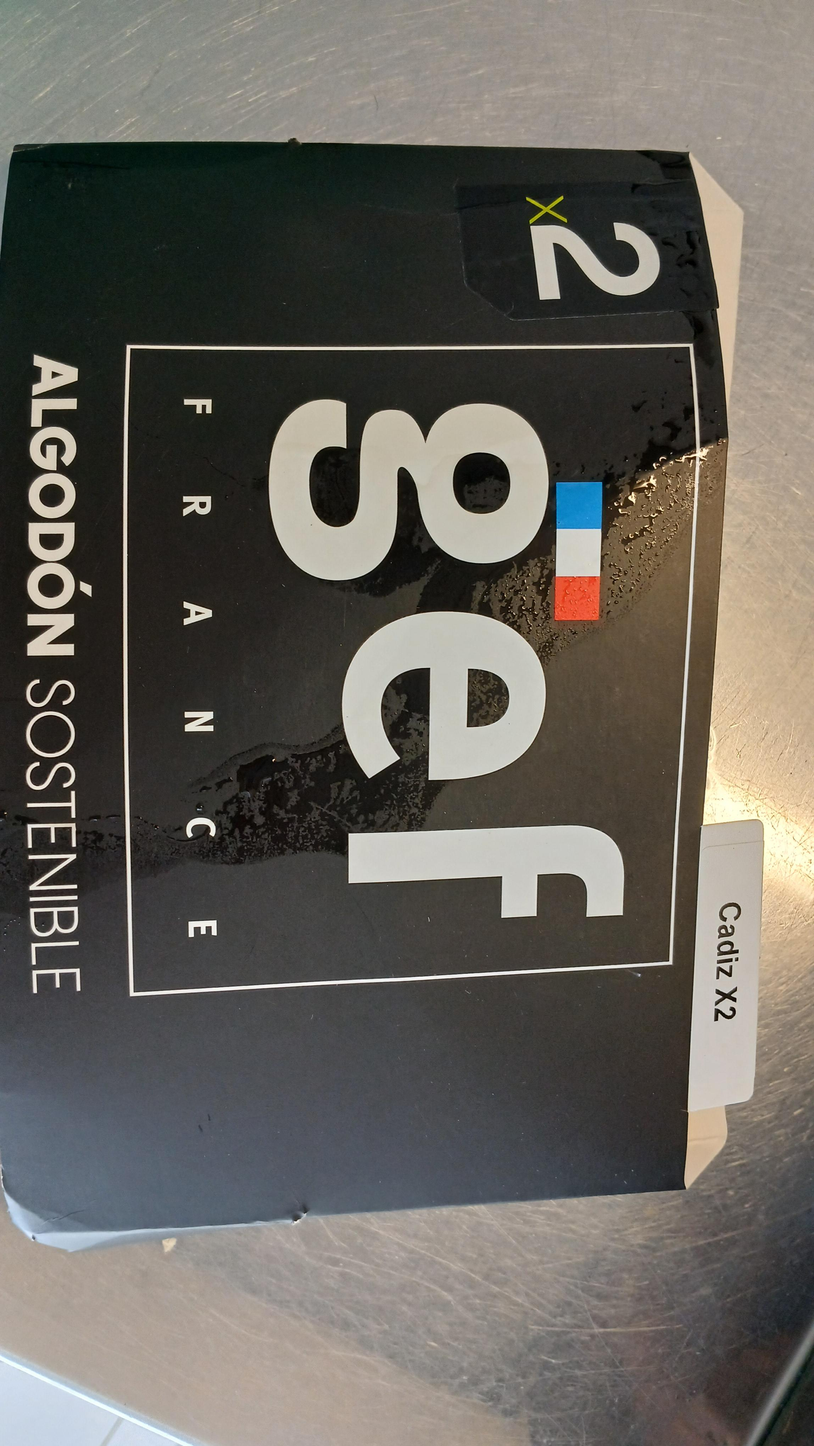Papel: (0, 145, 761, 1250)
